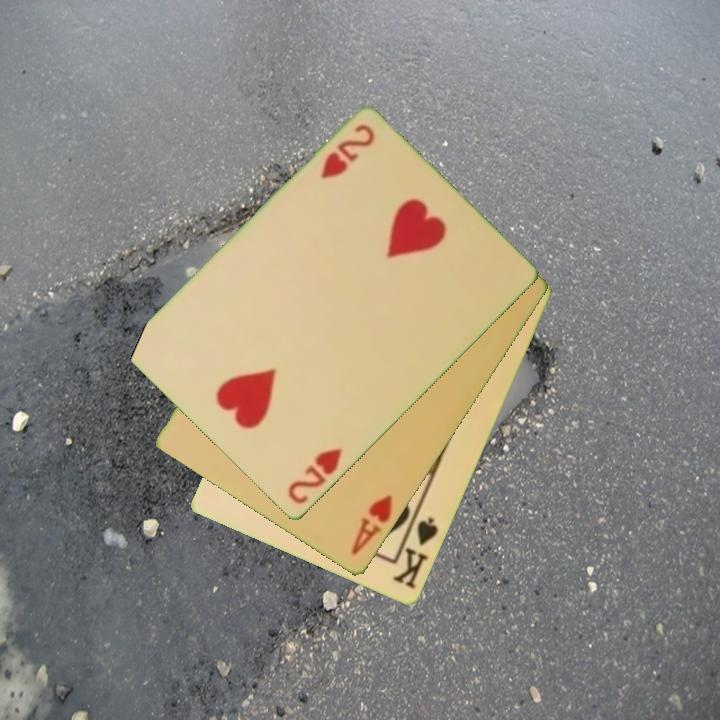2h: (284, 444, 345, 508), (317, 121, 378, 183)
Ah: (347, 491, 396, 559)
Ks: (389, 508, 442, 593)
